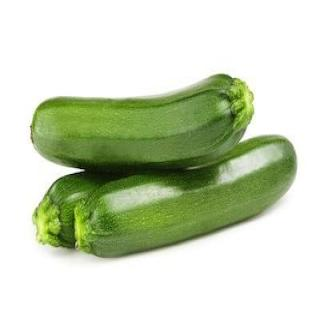Zucchini: (75, 136, 296, 256), (32, 75, 253, 170), (33, 172, 117, 247)
